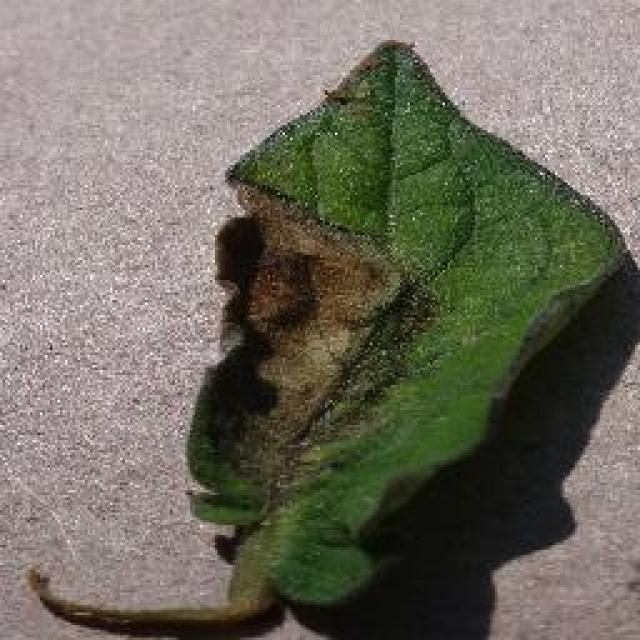Tomato late blight leaf: (190, 39, 635, 604)
